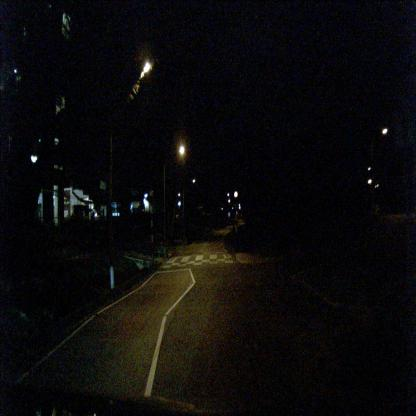human-pedestrian-adult: (90, 211, 97, 242)
